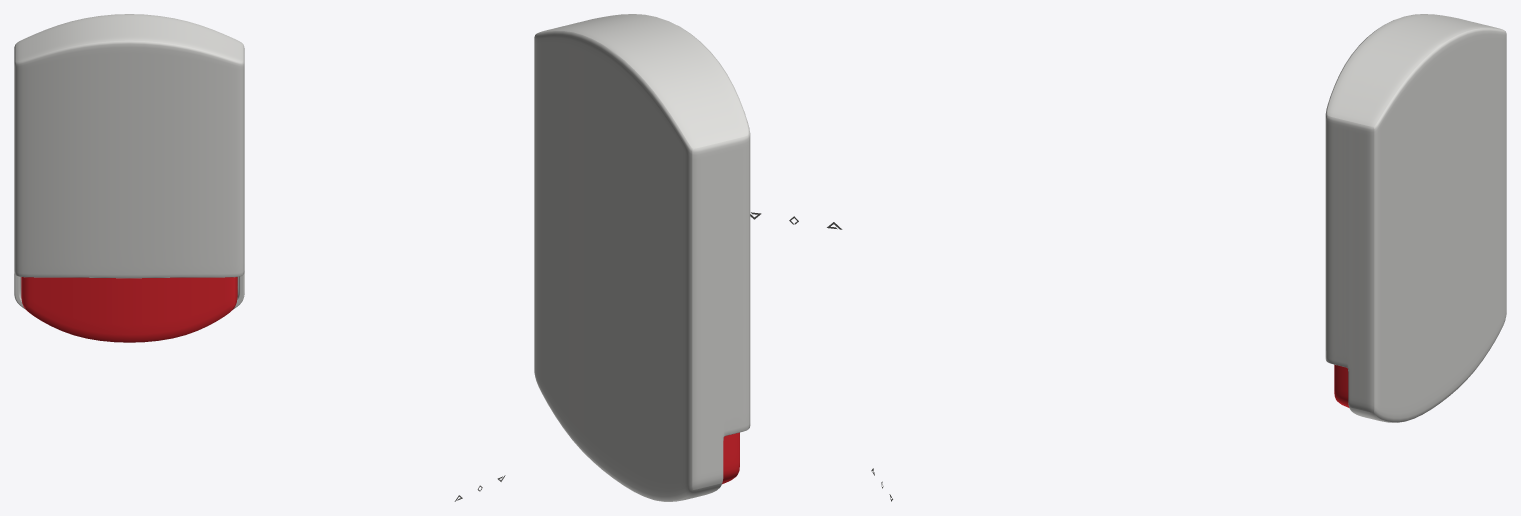
File: Alarm.gltf
3 views of the same model, side by side, from view 1: azimuth 30°, elevation 25°; view 2: azimuth 150°, elevation 25°; view 3: azimuth 270°, elevation 25° (orthographic). The views are drawn at different scales.
Visible parts, largest first — view 1: Home_Alarm_Kit_049_0, Home_Alarm_Kit_050_0; view 2: Home_Alarm_Kit_049_0, Home_Alarm_Kit_050_0; view 3: Home_Alarm_Kit_049_0.
Boxes of the visible parts, x1=… form: Home_Alarm_Kit_049_0: x1=14, y1=14, x2=244, y2=309; Home_Alarm_Kit_050_0: x1=21, y1=277, x2=237, y2=342; Home_Alarm_Kit_049_0: x1=534, y1=14, x2=750, y2=501; Home_Alarm_Kit_050_0: x1=722, y1=432, x2=739, y2=484; Home_Alarm_Kit_049_0: x1=1325, y1=14, x2=1506, y2=422.
Size of the model in its own units: 0.1152 by 0.147 by 0.2219.
